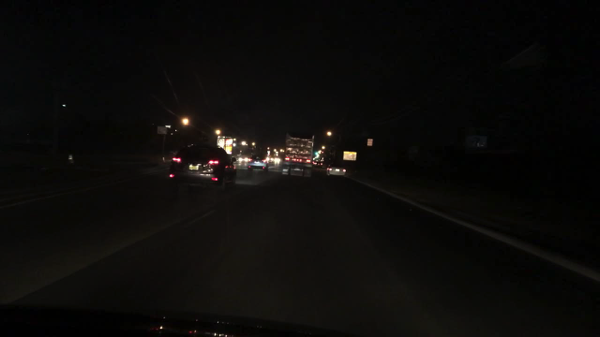car: (167, 143, 237, 194), (324, 162, 347, 180), (247, 155, 269, 173), (236, 154, 250, 163), (311, 158, 323, 168), (266, 156, 274, 163), (316, 157, 325, 162), (274, 157, 280, 162)
traffic sign: (342, 151, 356, 162), (156, 126, 166, 135), (367, 138, 373, 147)
truck: (281, 132, 316, 183), (217, 136, 233, 155)
